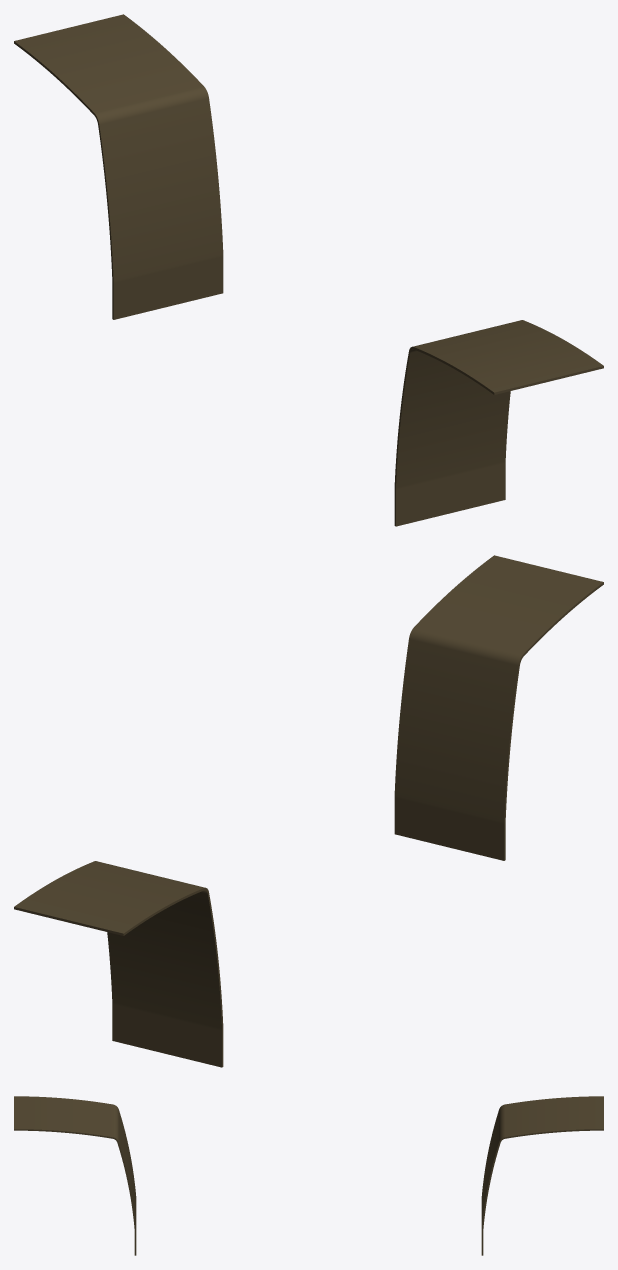
Rendered from OUTFITTING_INTERIOR__COMPANIONWAY HATCH__1_2_ acrylic.glb.
The picture shows the model from 3 angles, top to bottom: view 1: azimuth 30°, elevation 25°; view 2: azimuth 150°, elevation 25°; view 3: azimuth 270°, elevation 25°; orthographic projection. The views are drawn at different scales.
Parts seen in each view (by area): view 1: 1/2" acrylic; view 2: 1/2" acrylic; view 3: 1/2" acrylic.
Part boxes in pixels (bbox=[...]): 1/2" acrylic: bbox=[14, 14, 603, 526]; 1/2" acrylic: bbox=[14, 555, 603, 1067]; 1/2" acrylic: bbox=[14, 1096, 603, 1255].
Bounding box in the file's own units: 0.6033 × 1.08 × 4.57.
